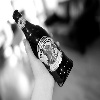beer: (12, 11, 74, 81)
